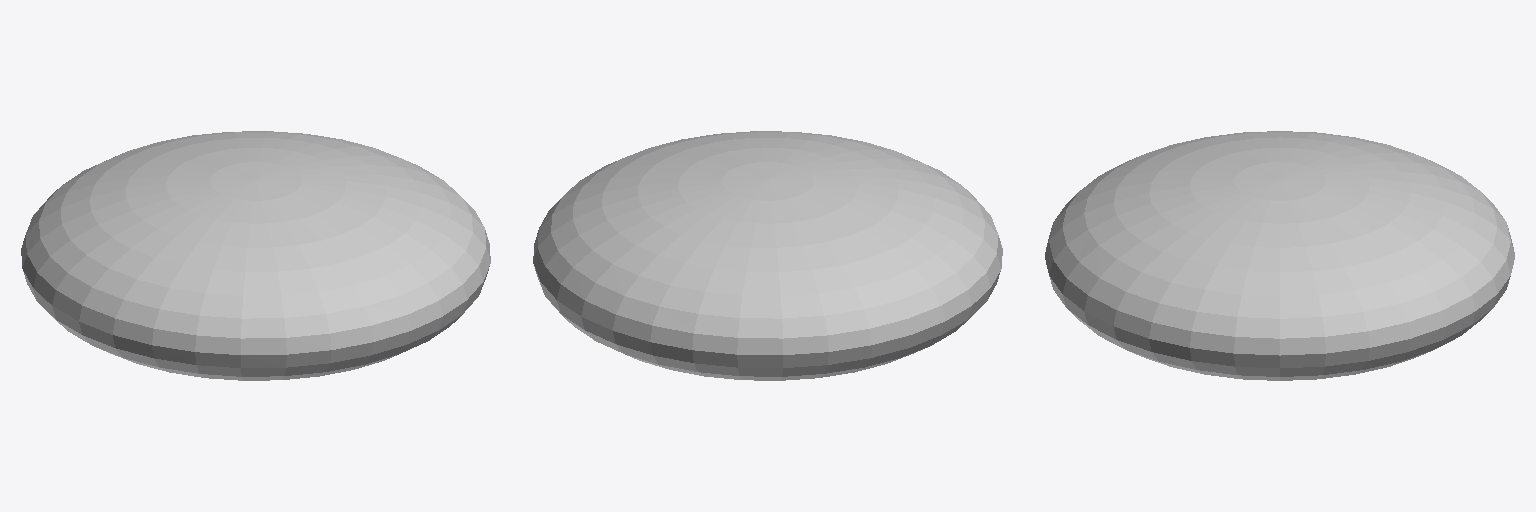
Rendered from candy.obj.
3 views of the same model, side by side, from view 1: azimuth 30°, elevation 25°; view 2: azimuth 150°, elevation 25°; view 3: azimuth 270°, elevation 25° (orthographic).
Parts seen in each view (by area): view 1: Candy_Sphere; view 2: Candy_Sphere; view 3: Candy_Sphere.
Part boxes in pixels (x1,y1,x2,y2): Candy_Sphere: (21,131,490,380); Candy_Sphere: (533,131,1002,380); Candy_Sphere: (1045,131,1514,380).
Size of the model in its own units: 0.03 by 0.0107 by 0.03.